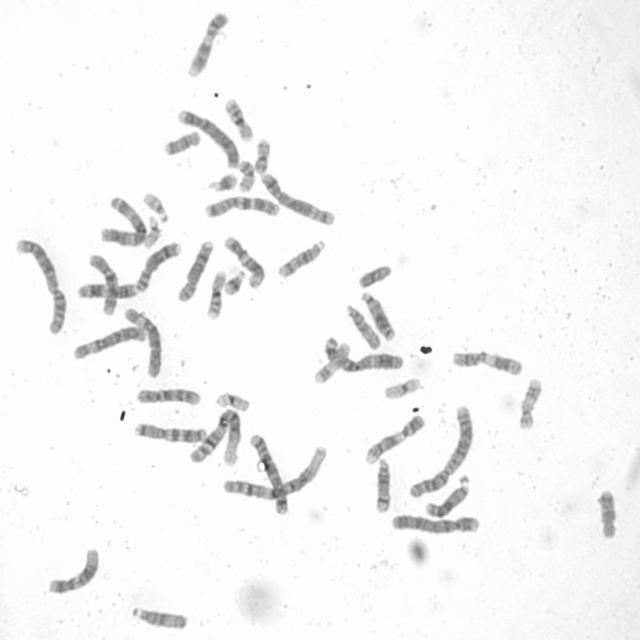A1: (220, 439, 330, 502), (186, 404, 246, 466)
A2: (406, 401, 476, 499), (10, 234, 70, 336)
A3: (321, 333, 405, 372), (96, 192, 148, 247)
B4: (174, 104, 242, 169), (387, 509, 482, 536)
B5: (258, 169, 338, 227), (246, 428, 292, 517)
C10: (84, 249, 121, 317), (134, 383, 204, 407)
C11: (448, 346, 526, 377), (75, 278, 140, 300)
C12: (44, 542, 102, 596), (221, 231, 267, 290)
C6: (120, 303, 164, 379), (69, 322, 149, 361)
C7: (200, 191, 282, 219), (132, 418, 209, 445)
C8: (174, 235, 216, 303), (133, 238, 183, 292)
C9: (361, 410, 428, 465), (184, 6, 230, 78)
D13: (422, 470, 472, 520), (358, 286, 398, 342)
D14: (274, 236, 328, 280), (372, 454, 393, 514)
D15: (342, 299, 382, 352), (128, 602, 190, 632)
E16: (220, 92, 256, 142), (202, 265, 228, 321)
E17: (310, 337, 353, 386), (515, 372, 544, 432)
E18: (594, 484, 620, 540), (161, 126, 202, 157)
F19: (381, 372, 424, 401), (212, 388, 252, 412)
F20: (251, 133, 272, 175), (234, 156, 257, 193)
G21: (221, 265, 247, 297), (205, 169, 239, 193)
G22: (140, 188, 170, 223), (141, 212, 163, 249)
Y: (354, 260, 394, 290)
